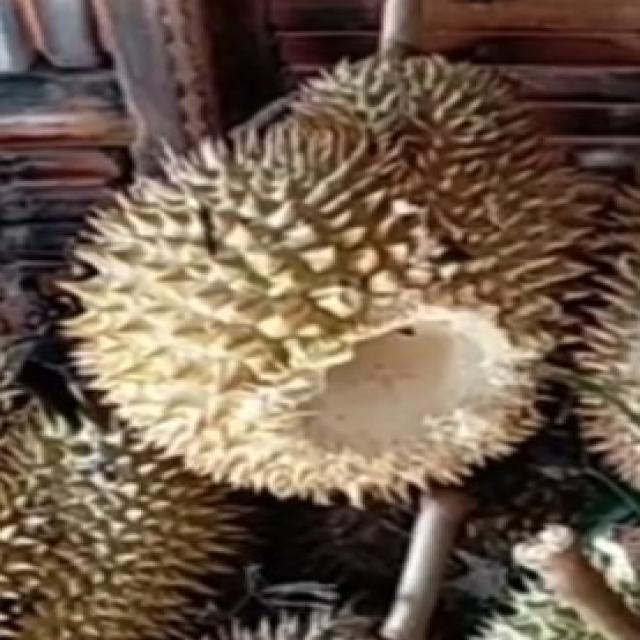defective: (60, 34, 604, 521)
